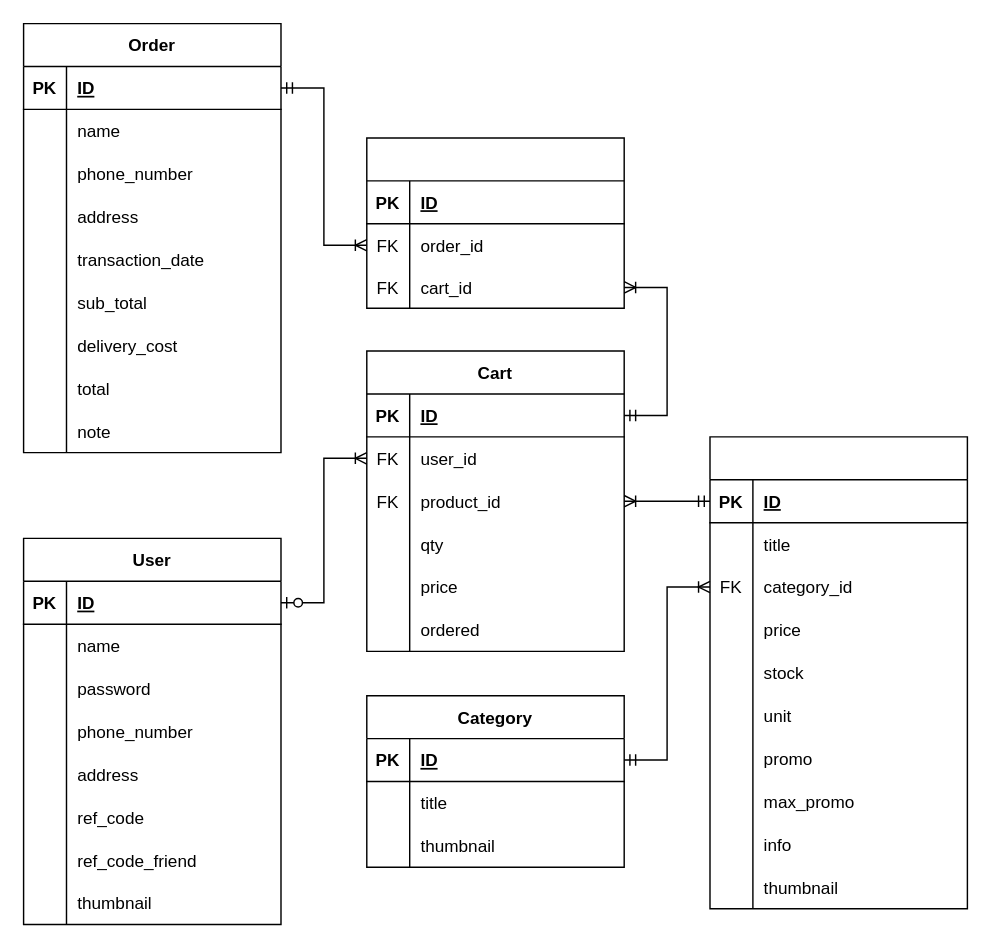
Image size: 991x948. Some labels were removed from this diagram. Here are the shapes that lost their labels. From the top down, the box of each, then its label:
(365, 137, 624, 308): Order_Item
(709, 435, 967, 909): Product
